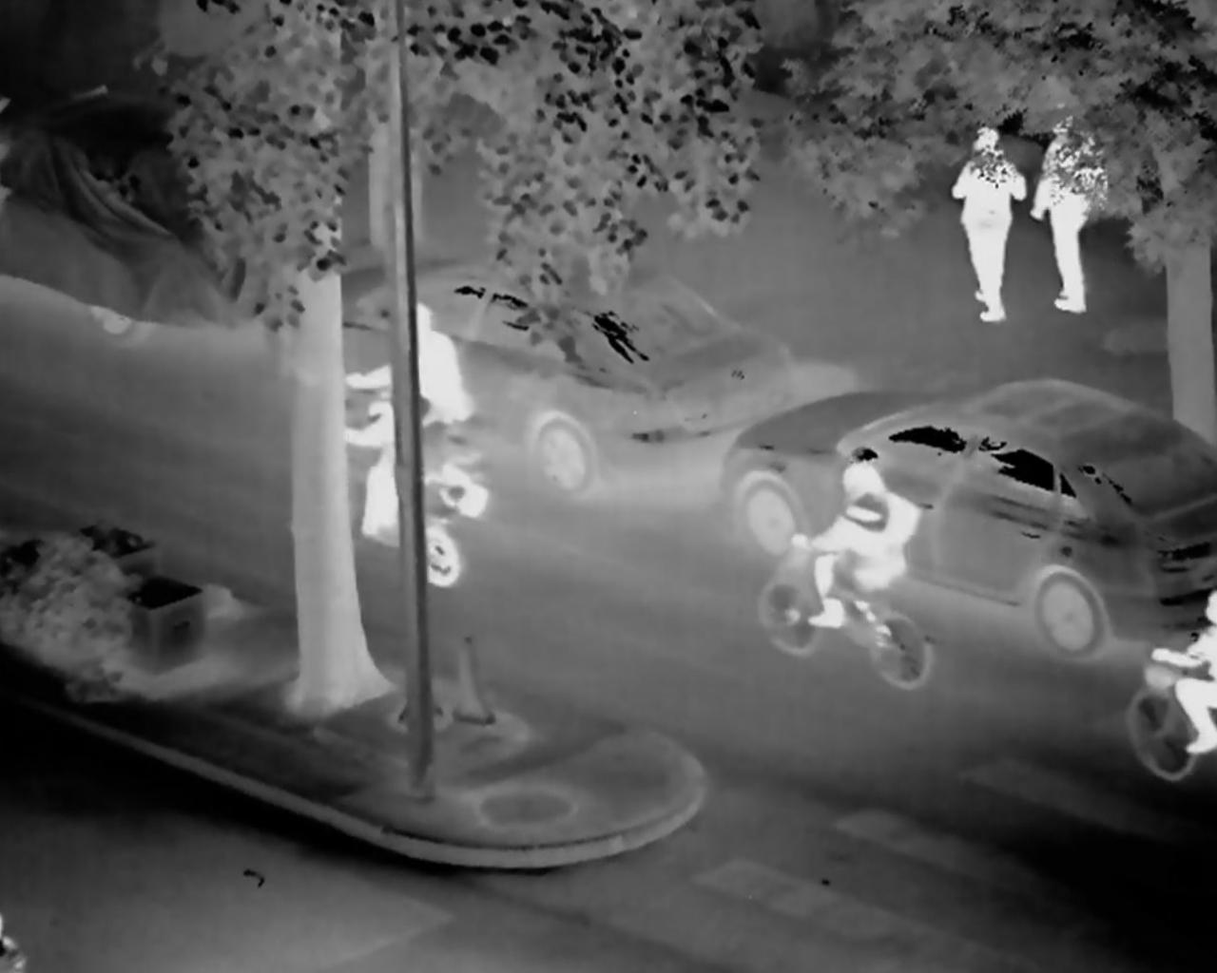person: (779, 432, 924, 632), (935, 116, 1033, 337), (341, 302, 476, 426), (1027, 117, 1107, 316), (349, 393, 442, 552), (1144, 582, 1217, 751)
